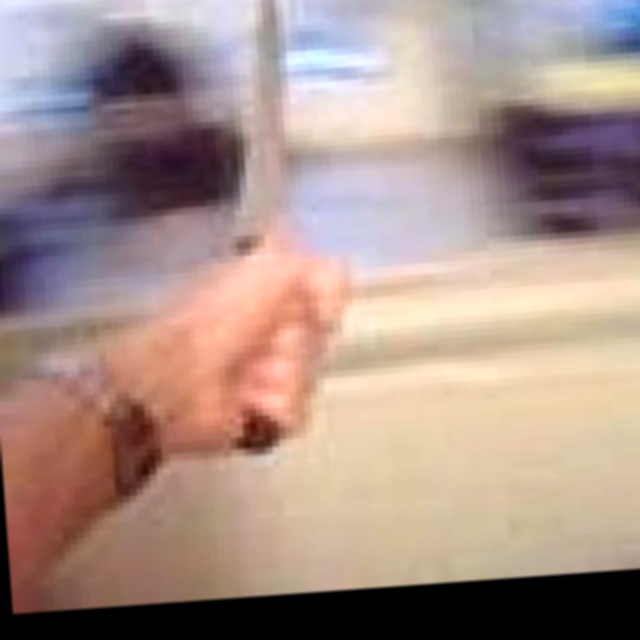Sharp-Object: (203, 0, 317, 452)
